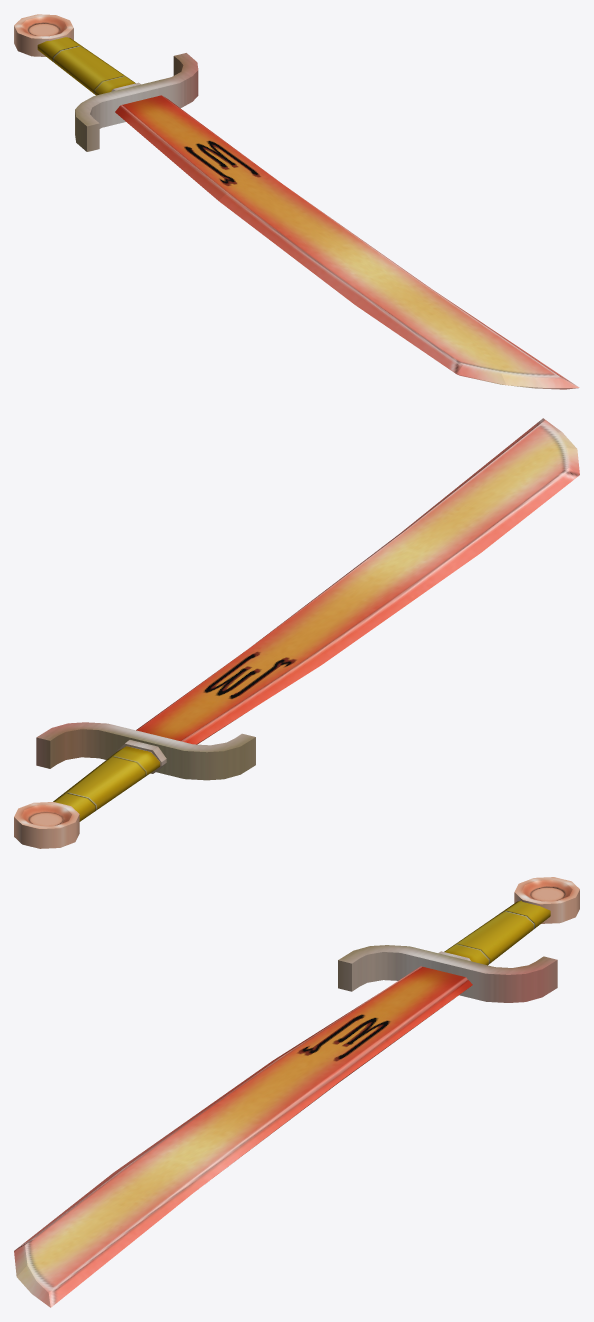
Rendered from Fireblend.FBX.
3 renders of one model, top to bottom at view 1: azimuth 30°, elevation 25°; view 2: azimuth 150°, elevation 25°; view 3: azimuth 330°, elevation 25°, orthographic. The views are drawn at different scales.
Parts seen in each view (by area): view 1: Fireblend; view 2: Fireblend; view 3: Fireblend.
Part boxes in pixels (box(x1,y1,x2,y2)): Fireblend: box(14, 14, 579, 389); Fireblend: box(14, 418, 579, 848); Fireblend: box(14, 877, 579, 1307).
Size of the model in its own units: 2.16 by 12.67 by 0.3532.
Materials: 1 (1 with a texture image).
